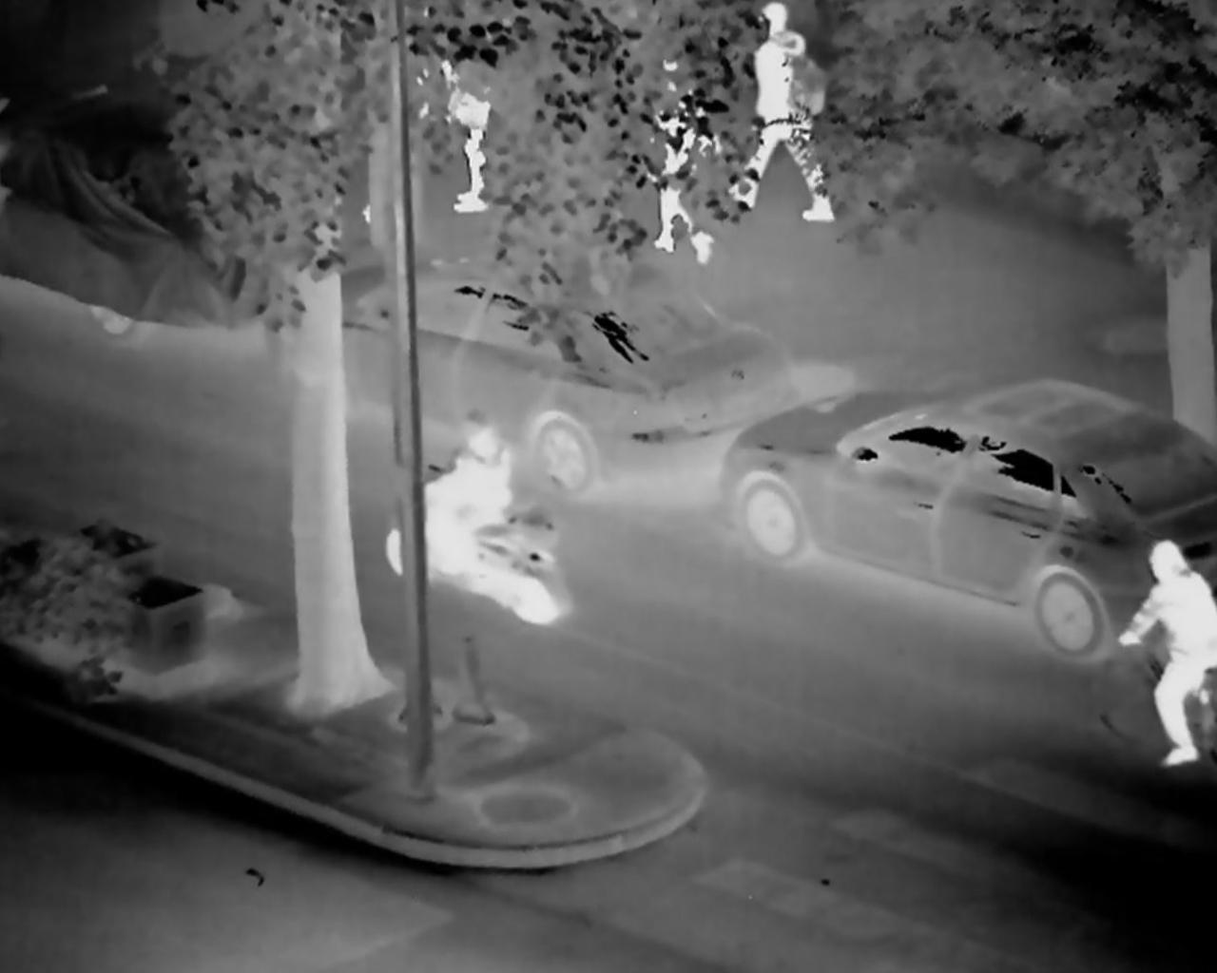person: (414, 398, 545, 588), (1128, 529, 1217, 773), (627, 39, 719, 270), (418, 35, 500, 217)
